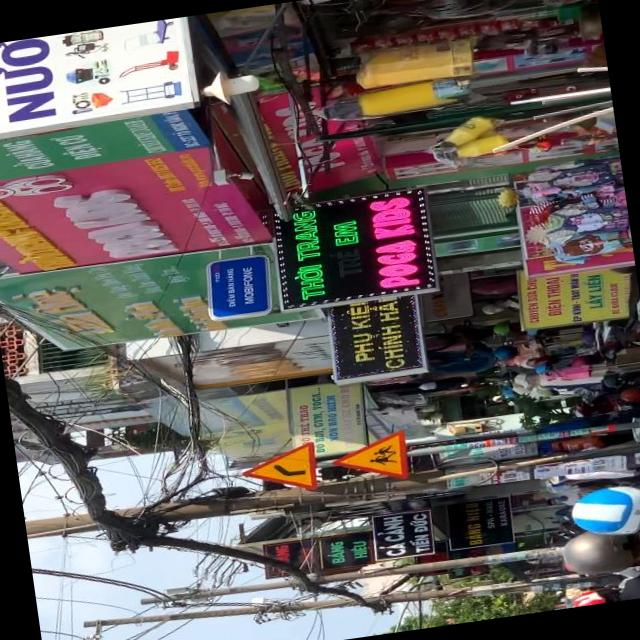W-201b: (238, 439, 320, 498)
W-225: (330, 431, 414, 486)
